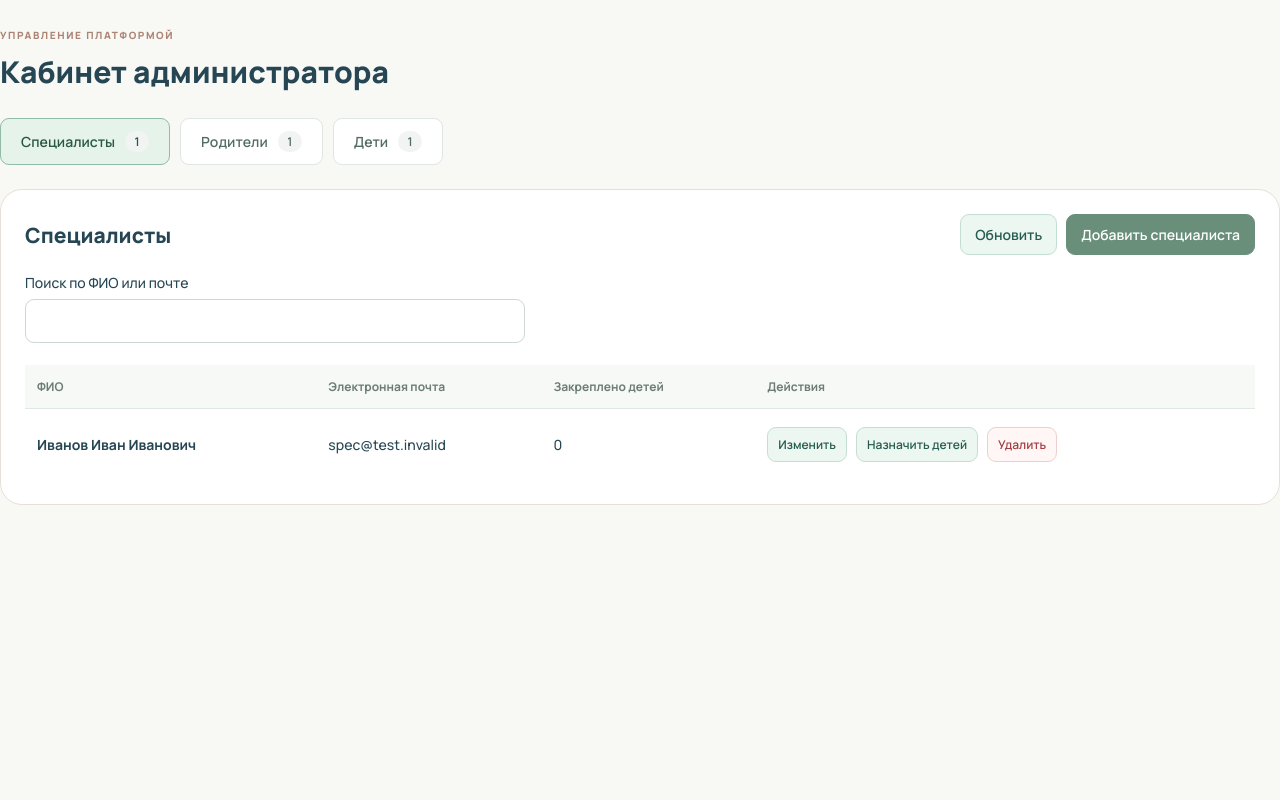
Scenario: admin assigns and revokes a child from specialist dialog
expect the text "spec@test.invalid" is shown: met, box [316,408,541,480]
Click the button "Назначить детей": [917, 444] box [856,427,978,462]
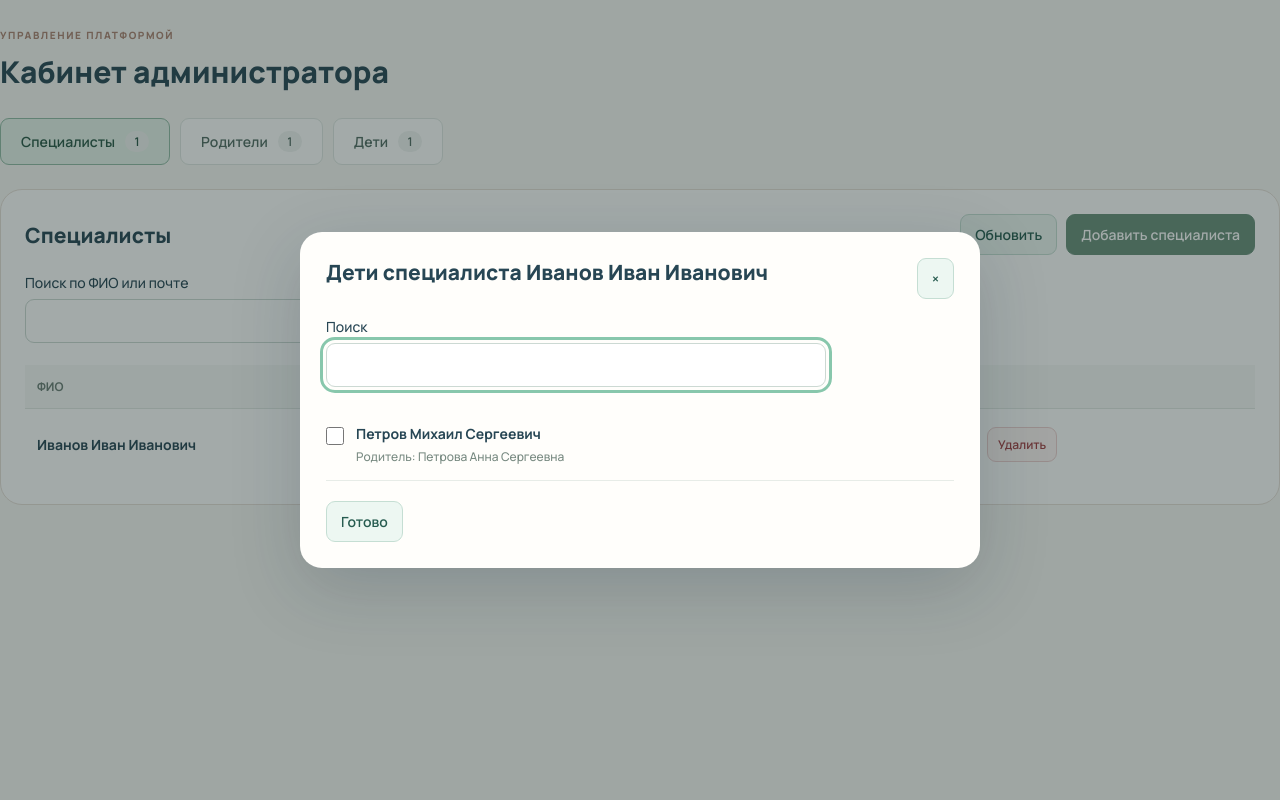
Click the checkbox: [335, 436] box [326,427,344,445]
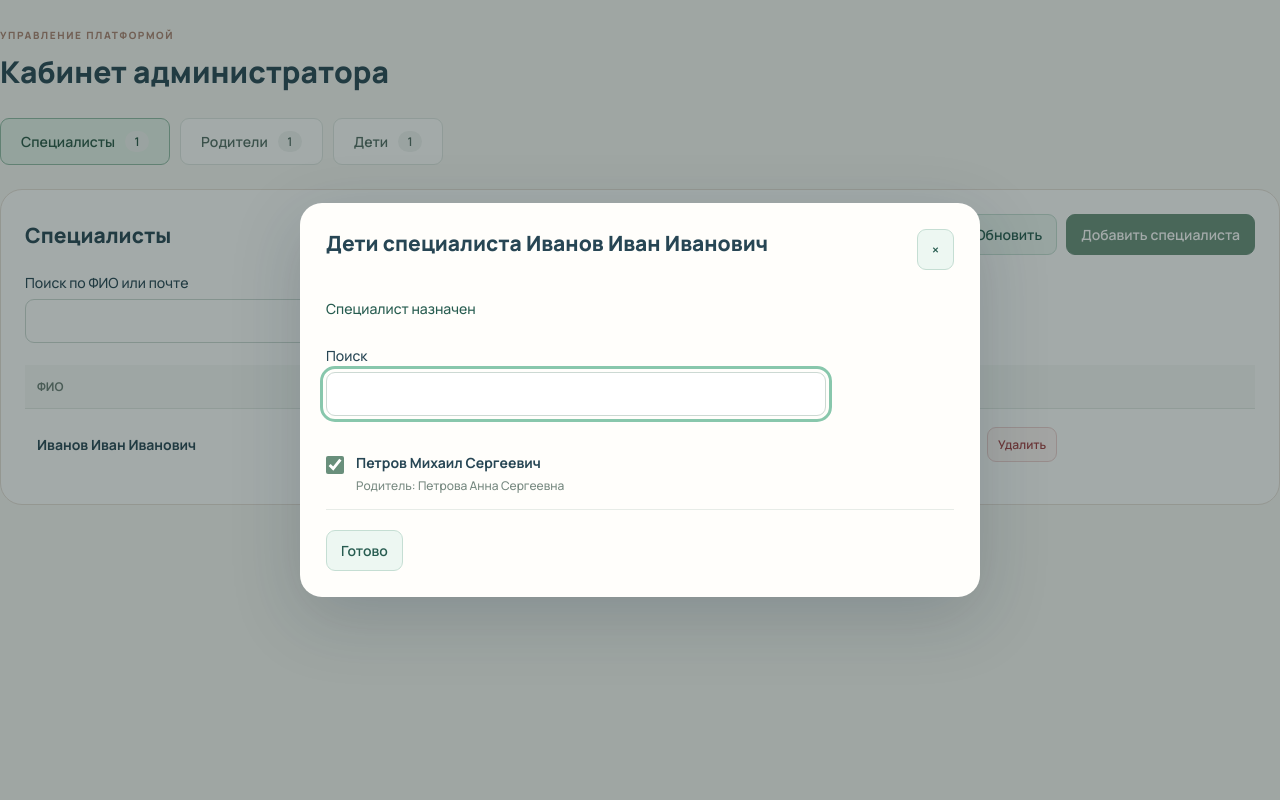
expect the checkbox is checked: met
Click the checkbox: [335, 465] box [326,456,344,474]
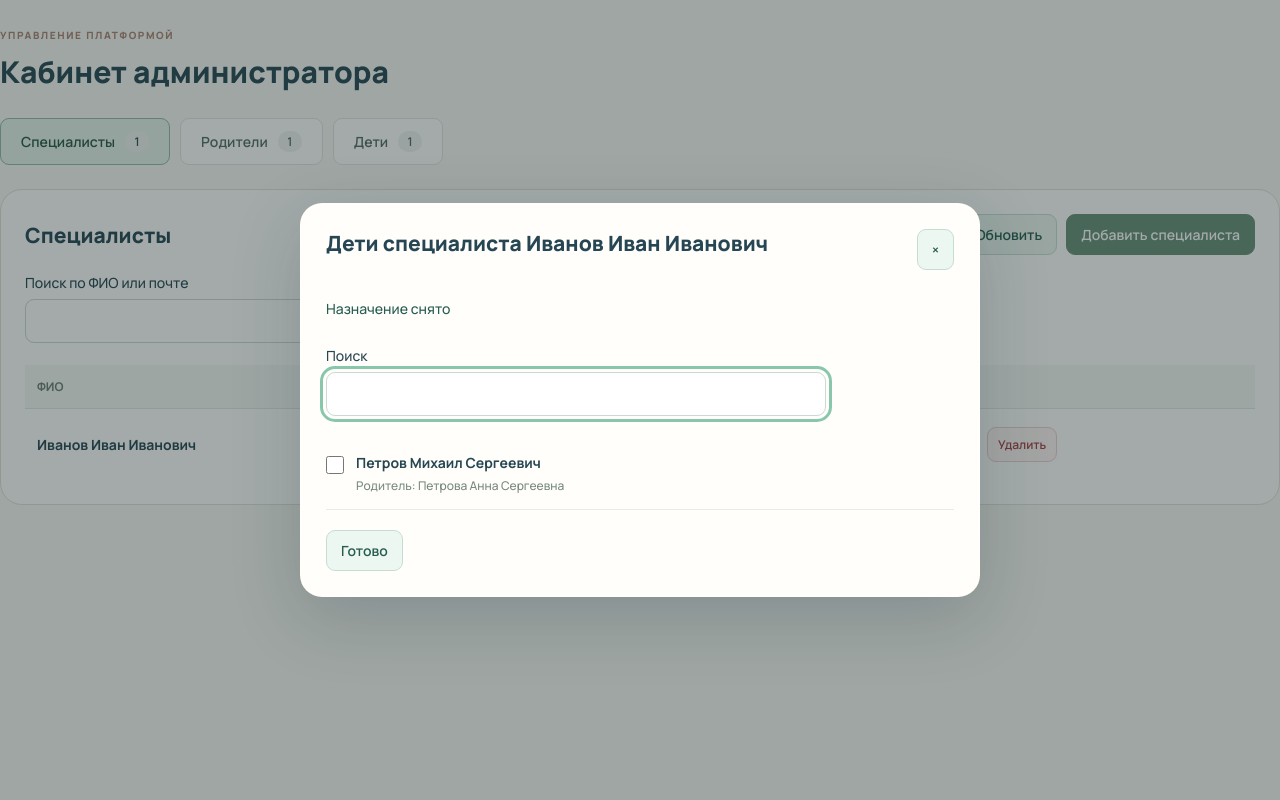
expect the checkbox is not checked: met, box [326,456,344,474]
